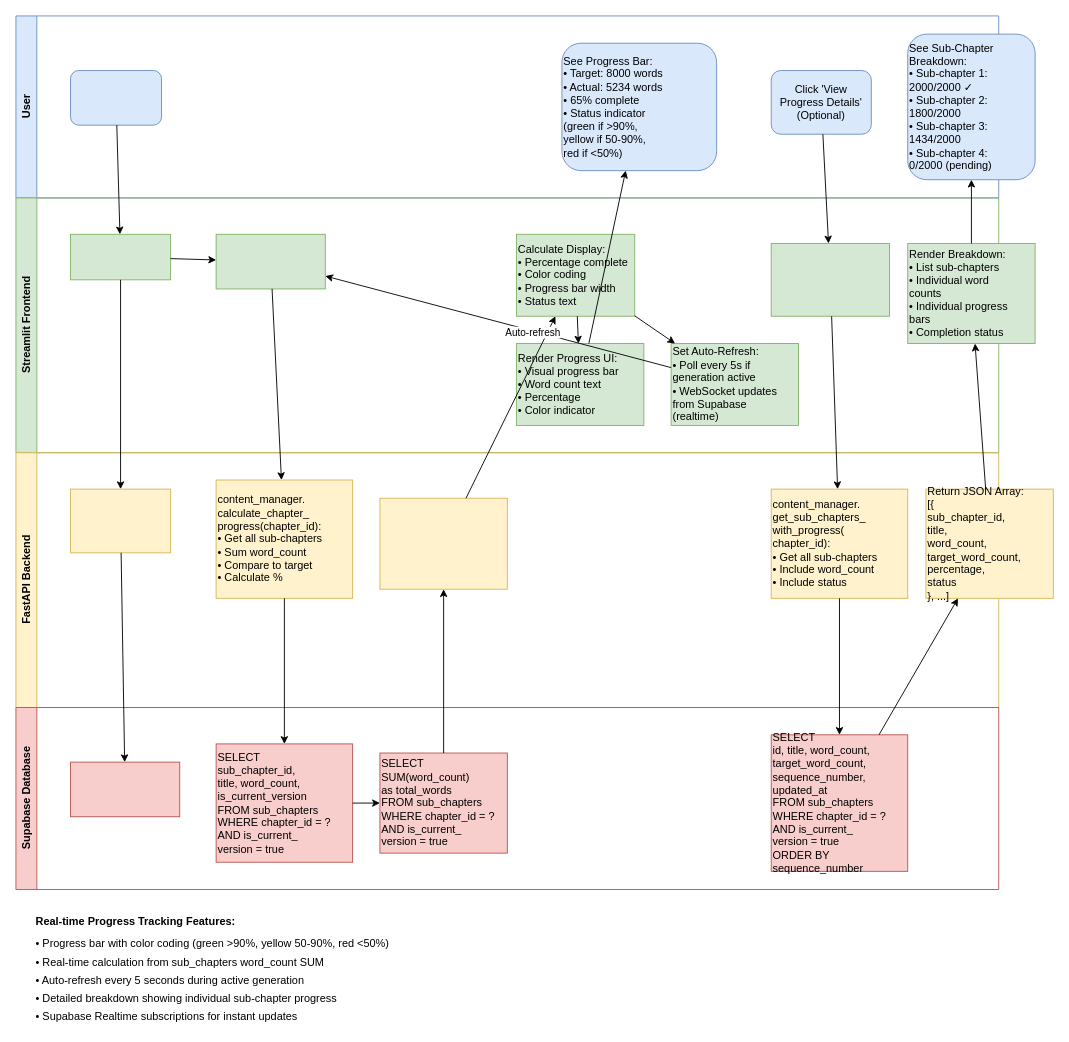
This 1069x1042 diagram has some shape labels left out. Here are the shapes that lost their labels. From the top down, the centre of each, then its label:
pixel 116 97: View Chapter or Chapter List
pixel 120 256: GET /api/chapters/ {chapter_id}
pixel 270 261: GET /api/chapters/ {chapter_id}/ progress
pixel 830 279: GET /api/chapters/ {chapter_id}/ sub_chapters/ progress
pixel 120 520: chapter_manager. get_chapter( chapter_id)
pixel 443 543: Return JSON: { target_word_count, actual_word_count, percentage, status }
pixel 125 789: SELECT * FROM chapters WHERE id = ?
